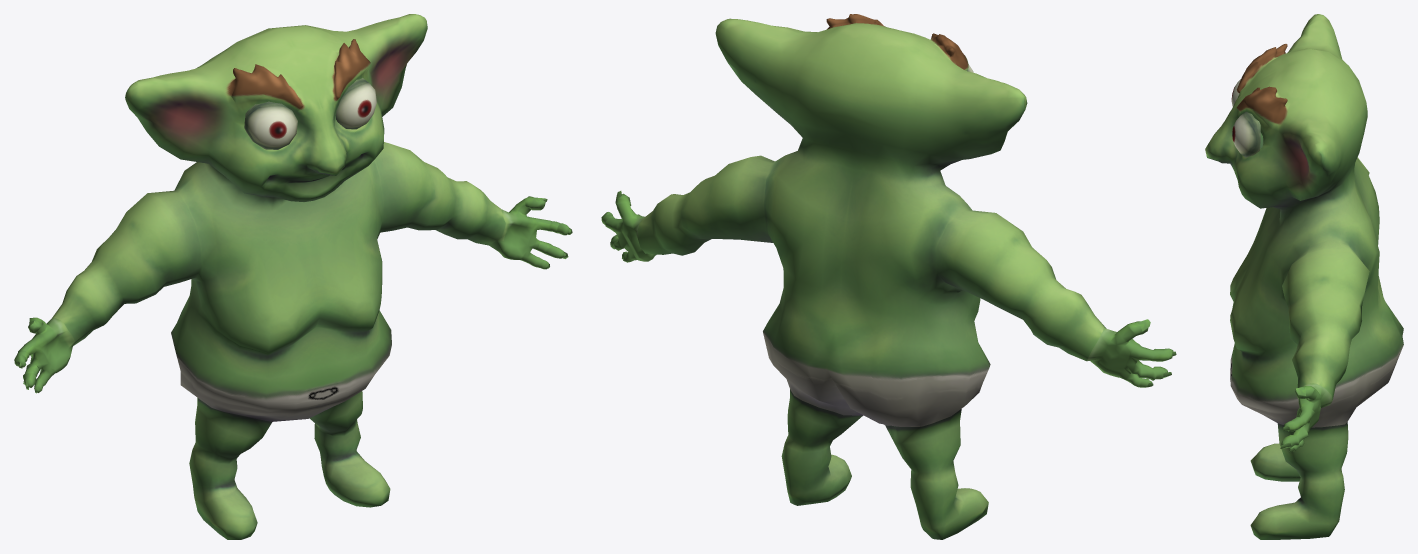
File: trolldoll.fbx
The picture shows the model from 3 angles, left to right: view 1: azimuth 30°, elevation 25°; view 2: azimuth 150°, elevation 25°; view 3: azimuth 270°, elevation 25°; orthographic projection. The views are drawn at different scales.
Parts seen in each view (by area): view 1: trolldoll; view 2: trolldoll; view 3: trolldoll.
Boxes of the visible parts, bbox=[...] form: trolldoll: bbox=[14, 14, 572, 539]; trolldoll: bbox=[601, 14, 1176, 539]; trolldoll: bbox=[1205, 14, 1403, 539].
Bounding box in the file's own units: 0.1995 × 0.1622 × 0.0657.
